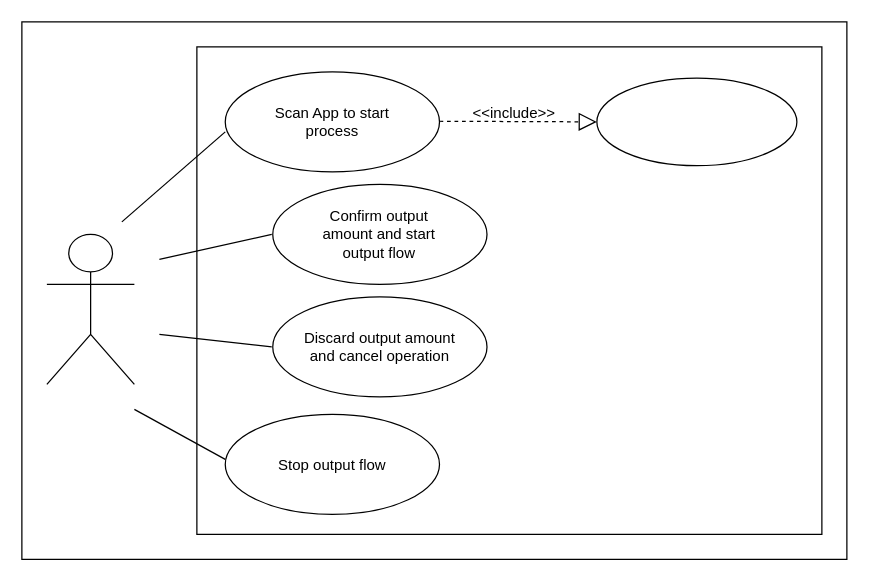
This 869x581 diagram has some shape labels left out. Each missing label, with the centre of its shape:
"Actor" goes at point 90,308.
"Validate liquid storage" goes at point 696,121.
